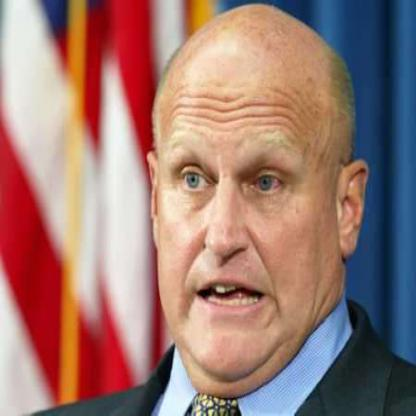face: (143, 9, 342, 391)
